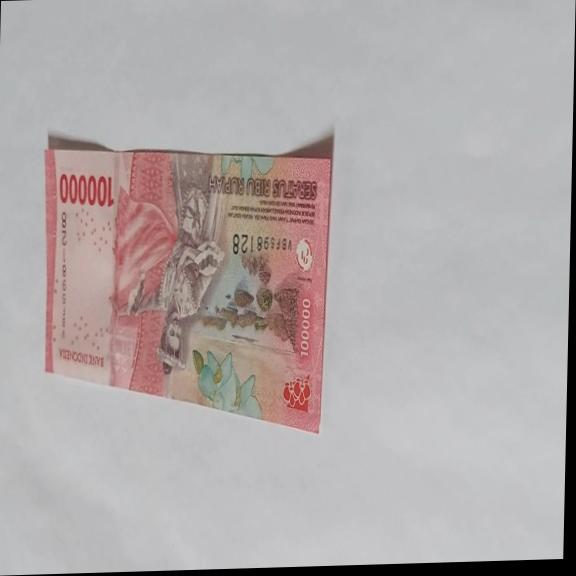Kertas: (38, 134, 333, 443), (57, 171, 114, 210)
